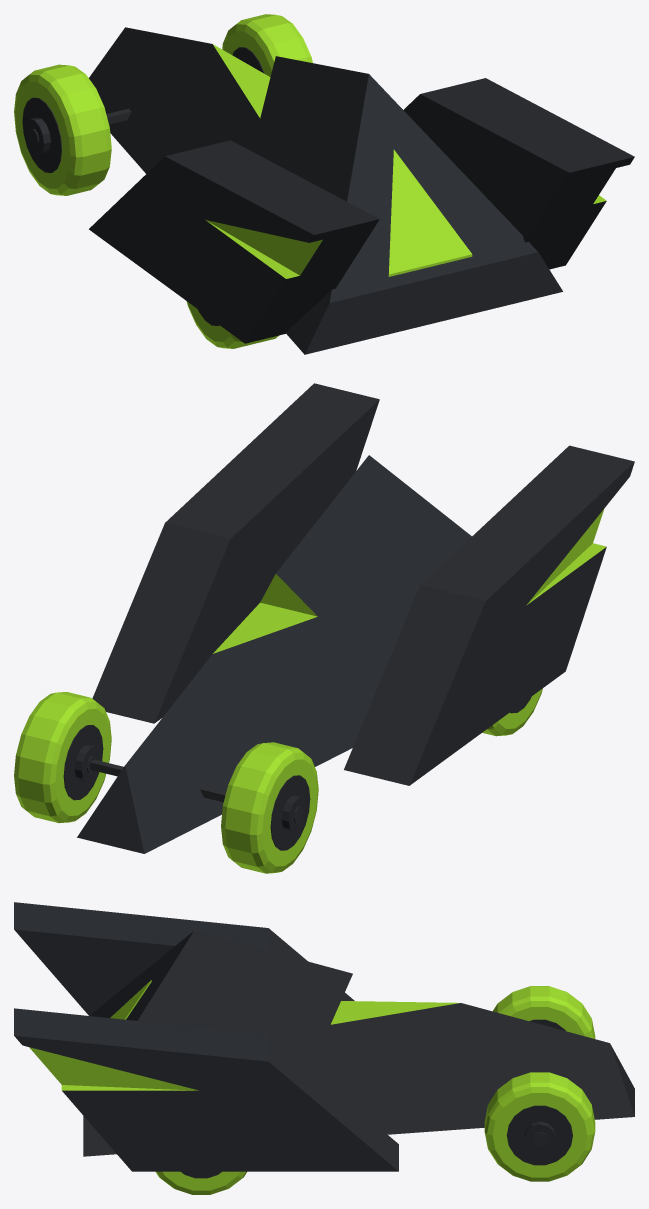
Rendered from gem.glb.
The picture shows the model from 3 angles, top to bottom: view 1: azimuth 30°, elevation 25°; view 2: azimuth 150°, elevation 25°; view 3: azimuth 270°, elevation 25°; orthographic projection. The views are drawn at different scales.
Visible parts, largest first — view 1: body, wheel_FL, wheel_FR, wheel_RL; view 2: body, wheel_FL, wheel_FR, wheel_RL; view 3: body, wheel_FR, wheel_FL, wheel_RR.
Part boxes in pixels (x1,y1,x2,y2): body: (89, 27, 634, 354); wheel_FL: (14, 64, 111, 195); wheel_FR: (222, 14, 312, 76); wheel_RL: (186, 301, 279, 348); body: (77, 383, 634, 853); wheel_FL: (221, 742, 318, 873); wheel_FR: (14, 692, 111, 823); wheel_RL: (482, 688, 542, 736); body: (14, 902, 634, 1171); wheel_FR: (484, 1072, 595, 1181); wheel_FL: (493, 986, 595, 1038); wheel_RR: (155, 1171, 246, 1194).
Bounding box in the file's own units: 2.02 × 1.42 × 3.96.
